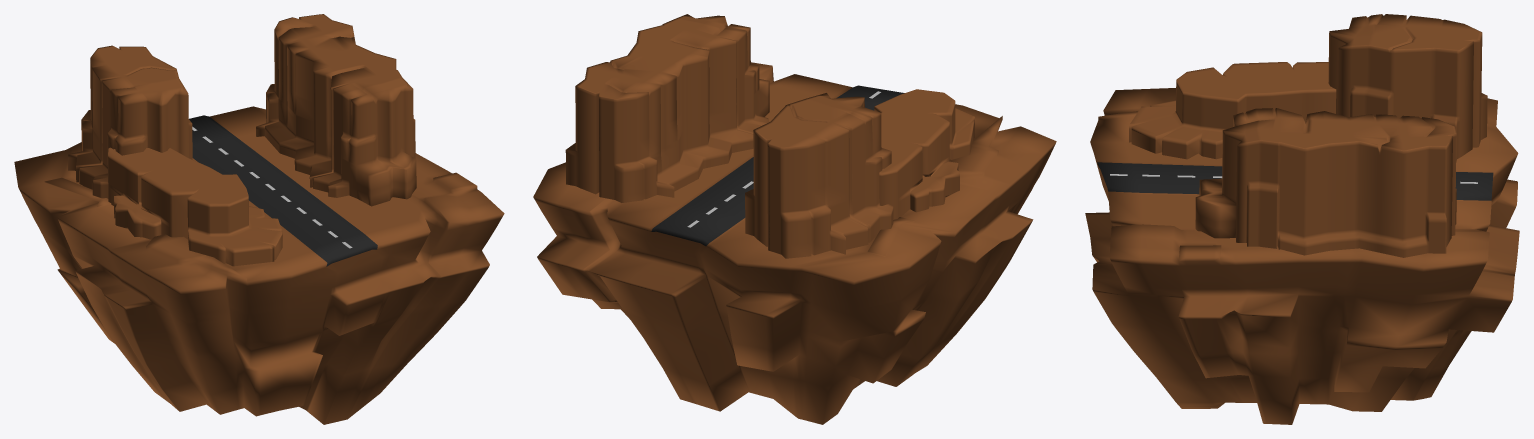
The model's file is Rock Mountain.glb.
3 views of the same model, side by side, from view 1: azimuth 30°, elevation 25°; view 2: azimuth 150°, elevation 25°; view 3: azimuth 270°, elevation 25° (orthographic). The views are drawn at different scales.
Parts seen in each view (by area): view 1: Cube.021, Cube.024, Cube.022, Cube.023; view 2: Cube.021, Cube.024, Cube.023, Cube.022; view 3: Cube.021, Cube.024, Cube.023, Cube.022.
Boxes of the visible parts, x1,y1,x2,y2 form: Cube.021: (14,106,504,424); Cube.024: (256,14,416,206); Cube.022: (108,147,282,266); Cube.023: (68,45,192,198); Cube.021: (533,62,1056,424); Cube.024: (565,14,769,202); Cube.023: (745,93,893,258); Cube.022: (874,89,974,219); Cube.021: (1085,88,1519,424); Cube.024: (1195,108,1456,257); Cube.023: (1328,14,1487,161); Cube.022: (1129,62,1336,159).
Size of the model in its own units: 5.3 by 4.26 by 5.12.
